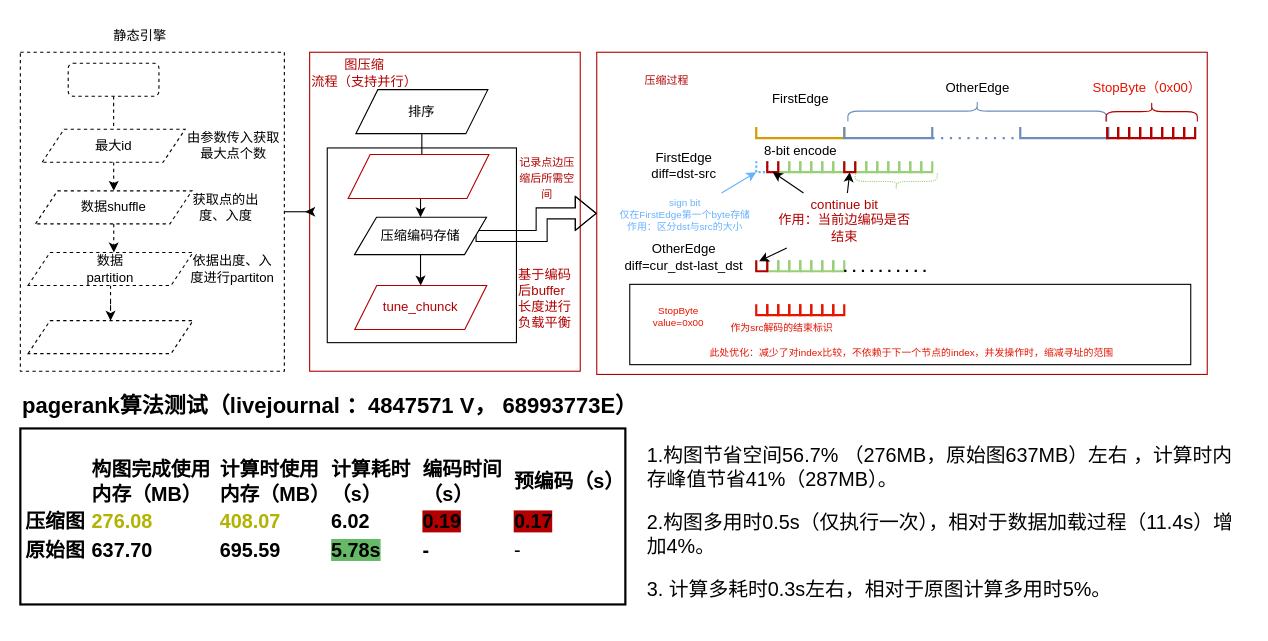
Some shapes in this 1268 by 641 pixel diagram are drawn without their labels. The centre of each missing label's shape, as x and y in pixels:
"data" belongs at pixel 895 181.
"构图" belongs at pixel 110 337.
"读取文件" belongs at pixel 113 79.
"预编码" belongs at pixel 418 176.
